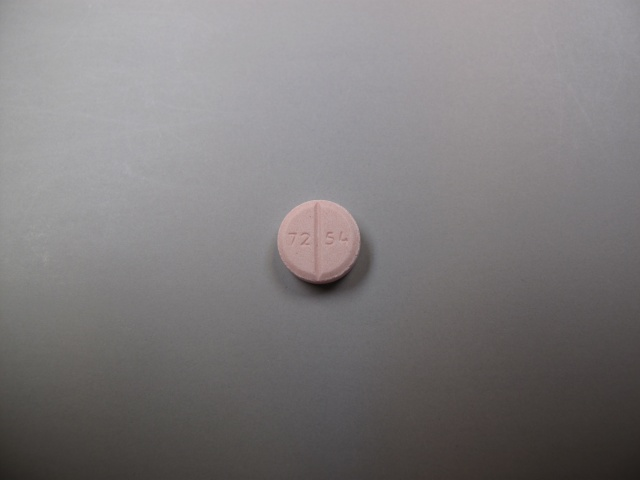2: (299, 230, 312, 250)
4: (337, 229, 351, 248)
5: (323, 229, 336, 248)
7: (284, 229, 297, 249)
|: (310, 199, 322, 281)
